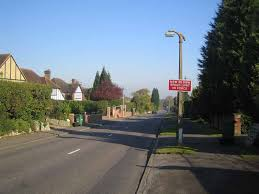light_pole: (172, 30, 188, 150)
